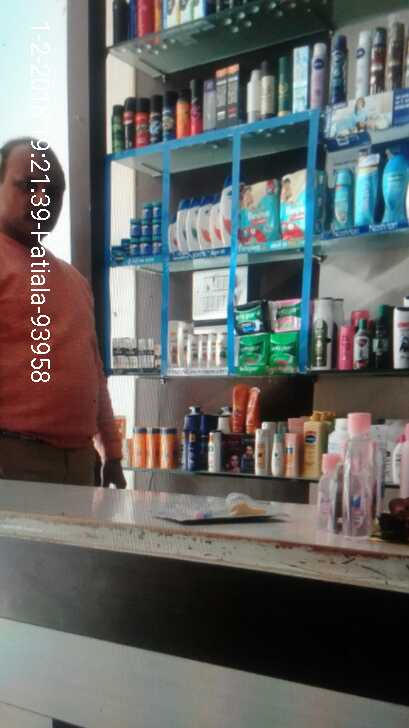vicks: (113, 197, 164, 269)
